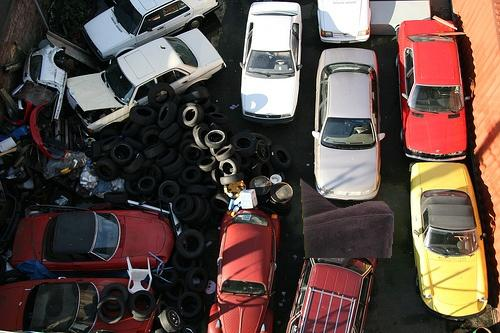tampered: (301, 179, 394, 258)
